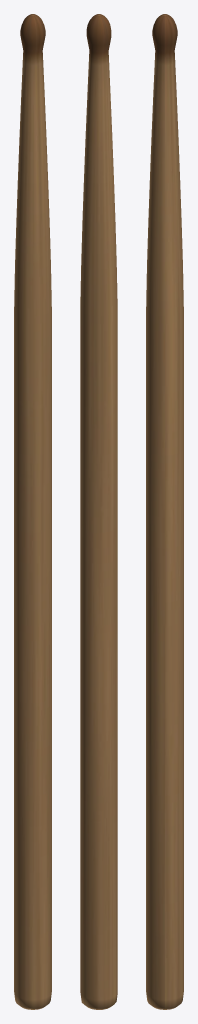
The model's file is drumstick.glb.
The picture shows the model from 3 angles, left to right: view 1: azimuth 90°, elevation 25°; view 2: azimuth 150°, elevation 25°; view 3: azimuth 270°, elevation 25°; orthographic projection.
Visible parts, largest first — view 1: Drumstick; view 2: Drumstick; view 3: Drumstick.
Boxes of the visible parts, x1=… form: Drumstick: x1=14, y1=14, x2=51, y2=1009; Drumstick: x1=80, y1=14, x2=117, y2=1009; Drumstick: x1=146, y1=14, x2=183, y2=1009.
Size of the model in its own units: 0.014 by 0.4051 by 0.014.
1 material, 1 textured.
